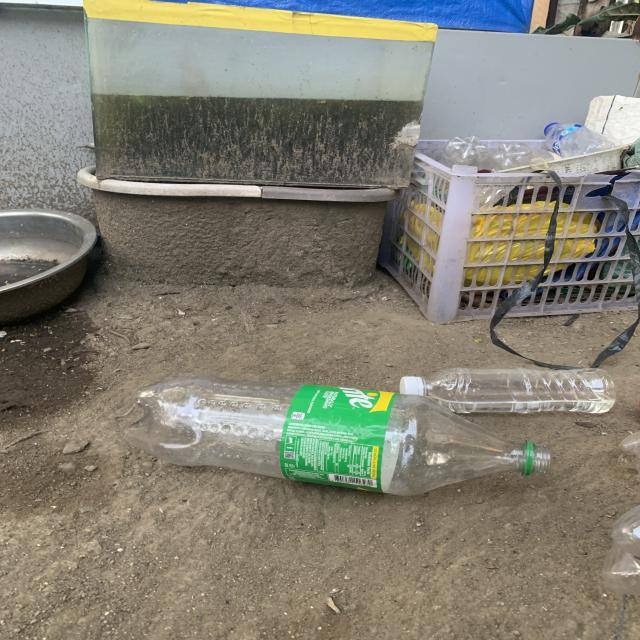Bottle: (127, 374, 550, 495)
